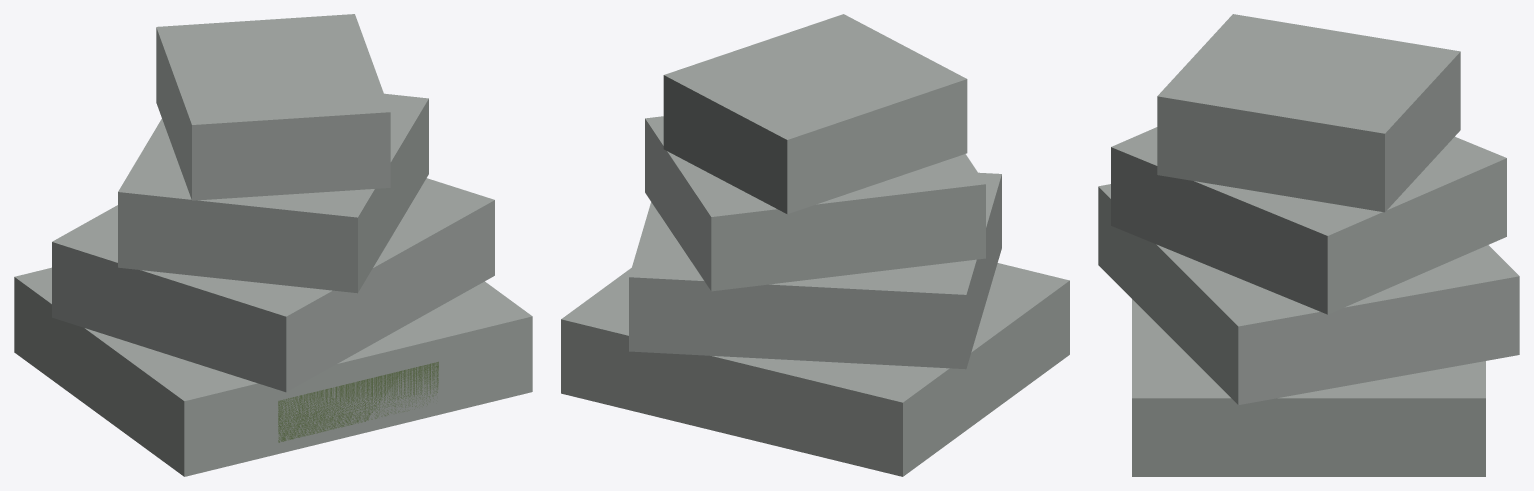
The model's file is cairn.glb.
3 renders of one model, left to right at view 1: azimuth 30°, elevation 25°; view 2: azimuth 150°, elevation 25°; view 3: azimuth 270°, elevation 25°, orthographic. The views are drawn at different scales.
Visible parts, largest first — view 1: cairn; view 2: cairn; view 3: cairn.
Boxes of the visible parts, left/top/right/bottom form: cairn: left=14, top=14, right=532, bottom=476; cairn: left=561, top=14, right=1069, bottom=476; cairn: left=1098, top=14, right=1519, bottom=476.
Bounding box in the file's own units: 1.4 × 1.08 × 1.31.
